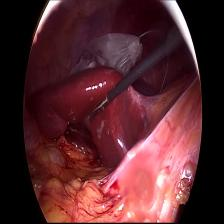Grasper: (85, 92, 112, 126)
Specimen Bag: (70, 26, 144, 74)
